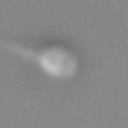normal: (1, 36, 40, 72)
